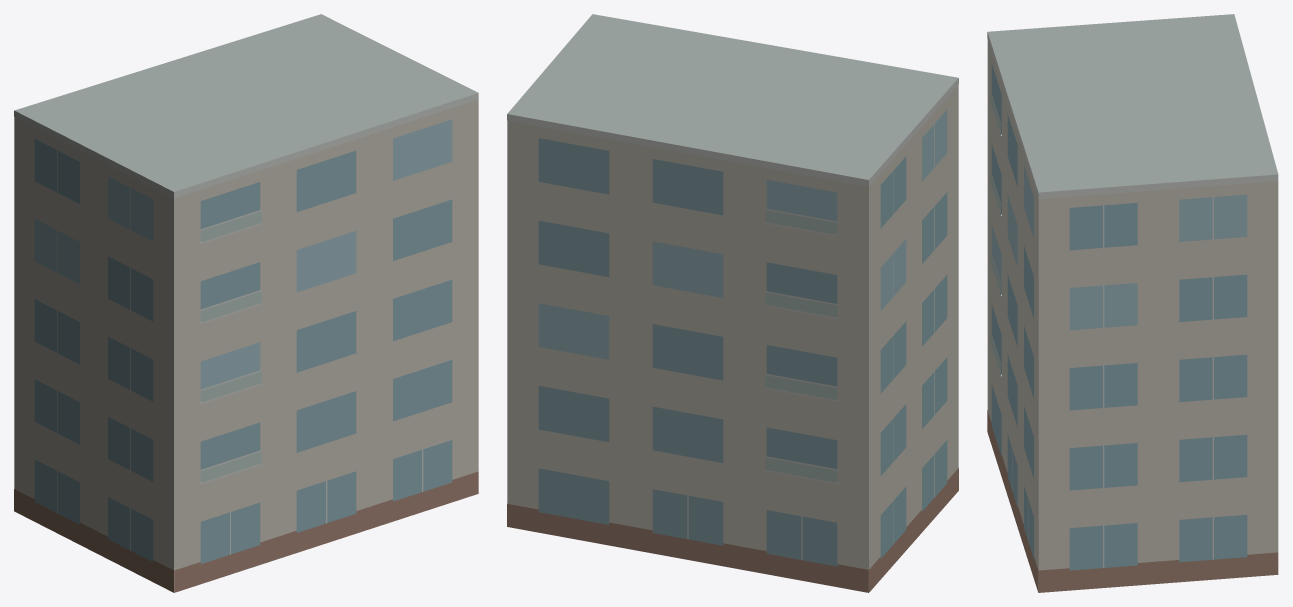
Rendered from survey-upis-33045053.glb.
3 views of the same model, side by side, from view 1: azimuth 30°, elevation 25°; view 2: azimuth 150°, elevation 25°; view 3: azimuth 270°, elevation 25° (orthographic). The views are drawn at different scales.
Visible parts, largest first — view 1: survey-upis-33045053.tmp; view 2: survey-upis-33045053.tmp; view 3: survey-upis-33045053.tmp.
Boxes of the visible parts, left/top/right/bottom form: survey-upis-33045053.tmp: left=14, top=14, right=478, bottom=592; survey-upis-33045053.tmp: left=507, top=14, right=958, bottom=592; survey-upis-33045053.tmp: left=987, top=14, right=1278, bottom=592.
Bounding box in the file's own units: 14.26 × 14.9 × 9.82.
